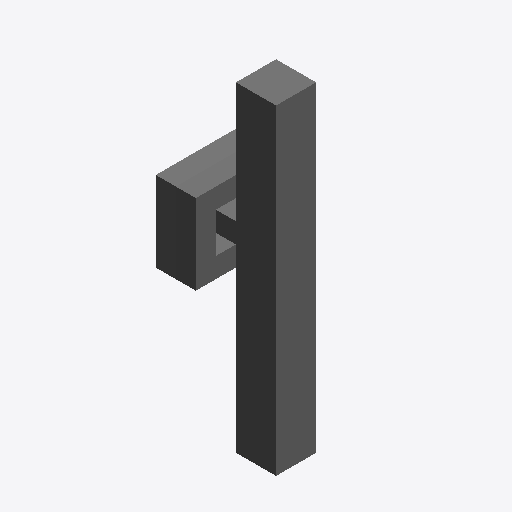
Isometric view (azimuth 45°, elevation 35.3°) of a Minecraft model made of 7 cuboids, textured from the same repository.
Parts seen in each view (by area): element 7, element 6, element 2, element 4, element 1, element 3.
Boxes of the visible parts, x1=… form: element 7: x1=236, y1=59, x2=315, y2=475; element 6: x1=176, y1=175, x2=215, y2=290; element 2: x1=156, y1=129, x2=235, y2=278; element 4: x1=197, y1=152, x2=235, y2=208; element 1: x1=216, y1=198, x2=235, y2=243; element 3: x1=216, y1=233, x2=235, y2=278.
Size of the model in its own units: 6 by 16 by 4.